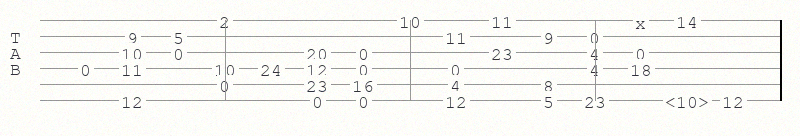0: (80, 61, 95, 76), (173, 45, 188, 60), (219, 77, 234, 92), (312, 93, 327, 108), (358, 61, 373, 76), (358, 93, 373, 108), (358, 45, 373, 60), (450, 61, 465, 76), (589, 29, 604, 44), (635, 45, 650, 60)
10: (121, 45, 147, 60), (214, 61, 240, 76), (399, 13, 425, 28)
11: (121, 61, 147, 76), (445, 29, 471, 44), (491, 13, 517, 28)
12: (121, 93, 147, 108), (306, 61, 332, 76), (445, 93, 471, 108), (722, 93, 748, 108)
14: (676, 13, 702, 28)
16: (352, 77, 378, 92)
18: (630, 61, 656, 76)
2: (219, 13, 234, 28)
20: (306, 45, 332, 60)
23: (306, 77, 332, 92), (491, 45, 517, 60), (584, 93, 610, 108)
24: (260, 61, 286, 76)
4: (450, 77, 465, 92), (589, 61, 604, 76), (589, 45, 604, 60)
5: (173, 29, 188, 44), (543, 93, 558, 108)
8: (543, 77, 558, 92)
9: (127, 29, 142, 44), (543, 29, 558, 44)
harmonic: (665, 93, 713, 108)
x: (635, 14, 650, 26)
